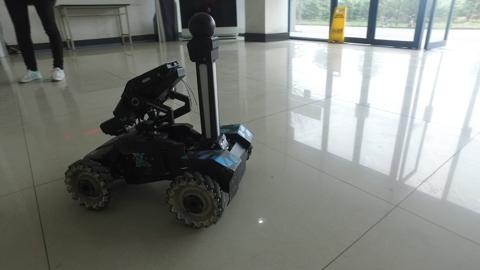chariot: (63, 11, 252, 229)
